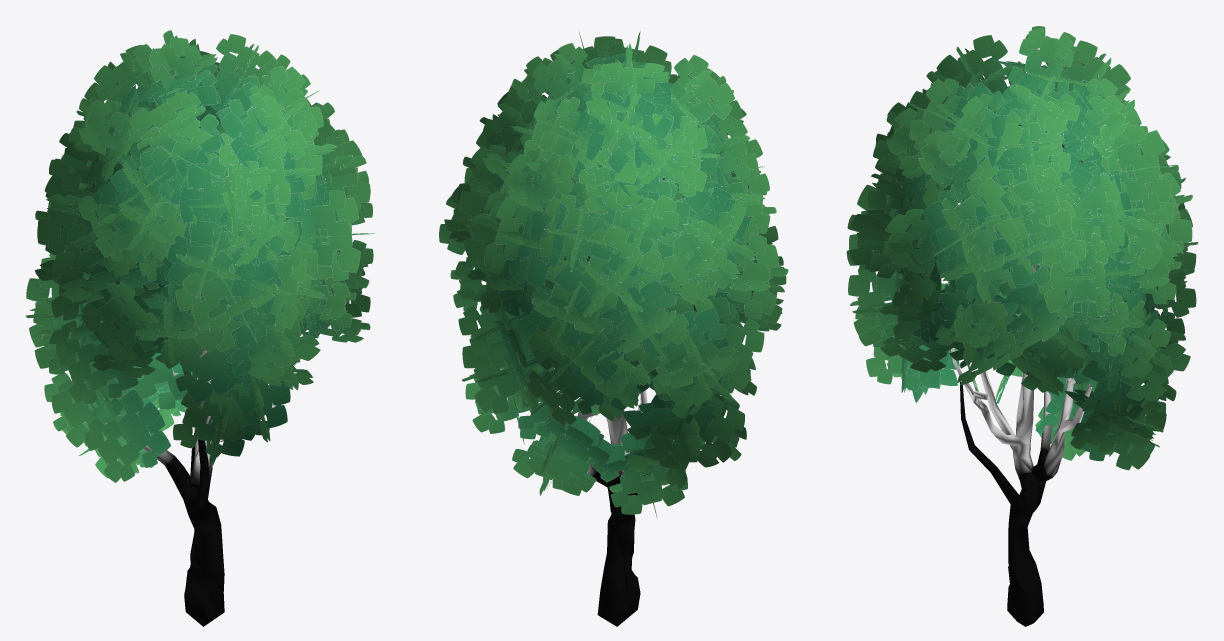
File: TSP_Tree_02A.fbx
The picture shows the model from 3 angles, left to right: view 1: azimuth 30°, elevation 25°; view 2: azimuth 150°, elevation 25°; view 3: azimuth 270°, elevation 25°; orthographic projection.
Visible parts, largest first — view 1: TSP_Tree_02A; view 2: TSP_Tree_02A; view 3: TSP_Tree_02A.
Boxes of the visible parts, x1,y1,x2,y2 form: TSP_Tree_02A: [25, 30, 374, 626]; TSP_Tree_02A: [439, 31, 788, 626]; TSP_Tree_02A: [846, 26, 1198, 626].
Bounding box in the file's own units: 4.43 × 7.67 × 4.33.
